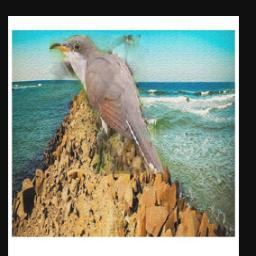Cuckoo: (50, 35, 165, 174)
